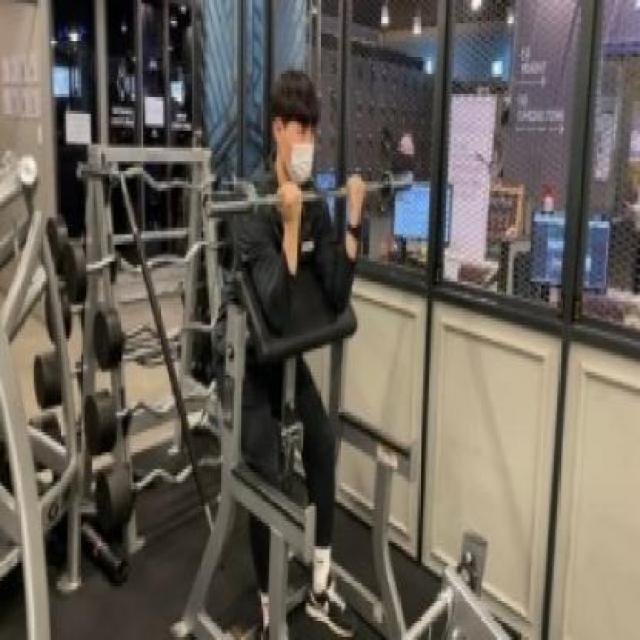arm curl machine: (169, 254, 417, 640)
